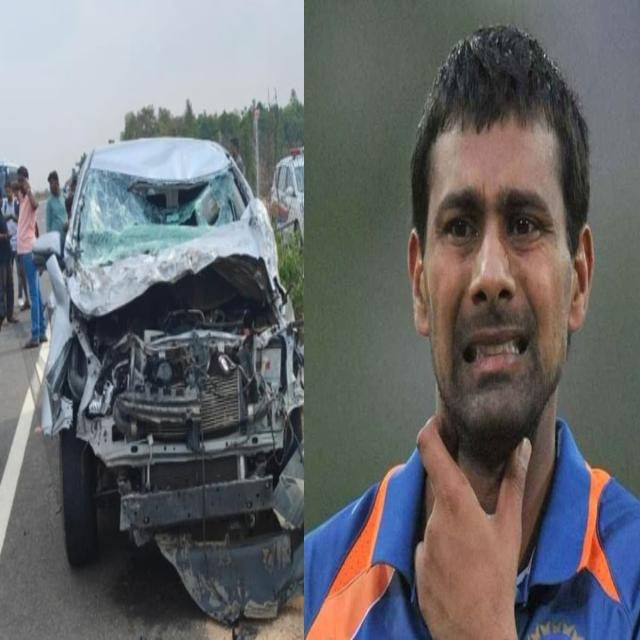accident: (41, 138, 304, 621)
